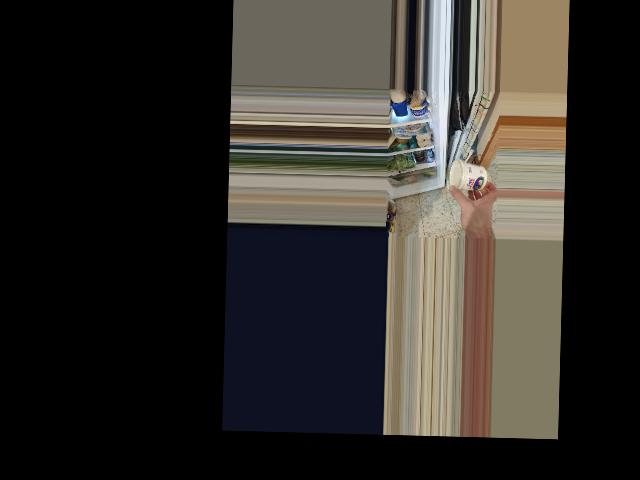cotage: (448, 158, 488, 194)
